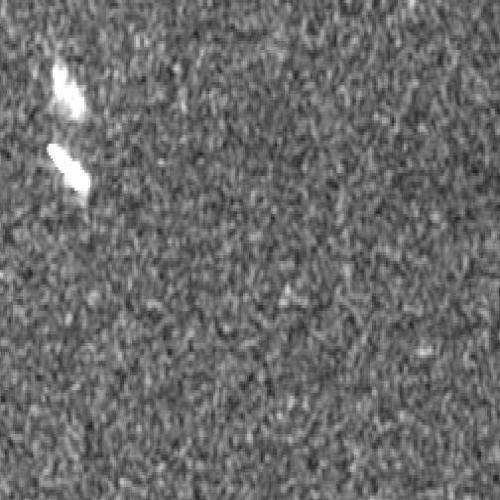ship: (47, 140, 91, 198), (51, 61, 88, 120)
